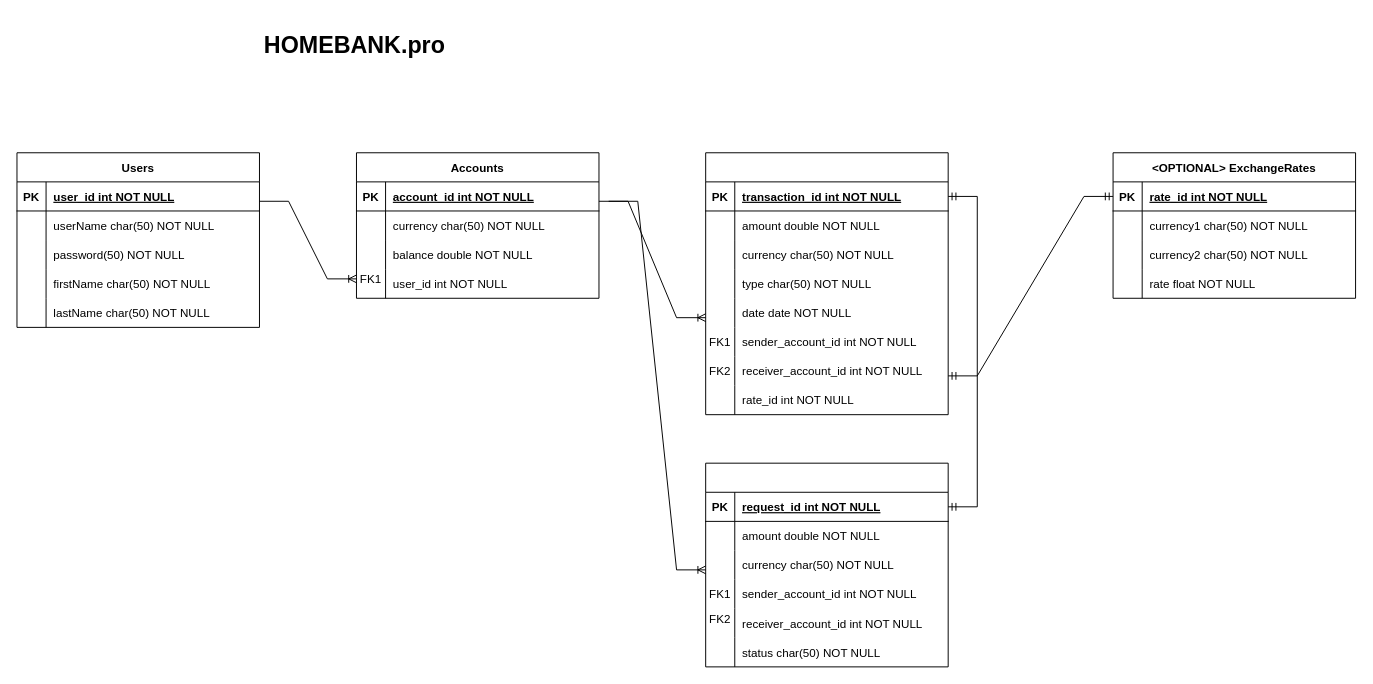
The diagram is 1373 pixels wide and 684 high, and some of its shapes have lost their labels. Each missing label, with the box of its shape:
Requests: (705, 462, 948, 667)
Transactions: (705, 152, 948, 415)
